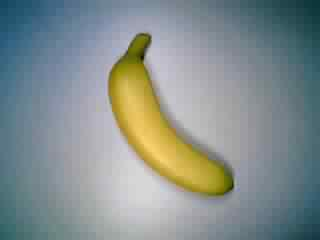banana: (103, 33, 238, 196)
